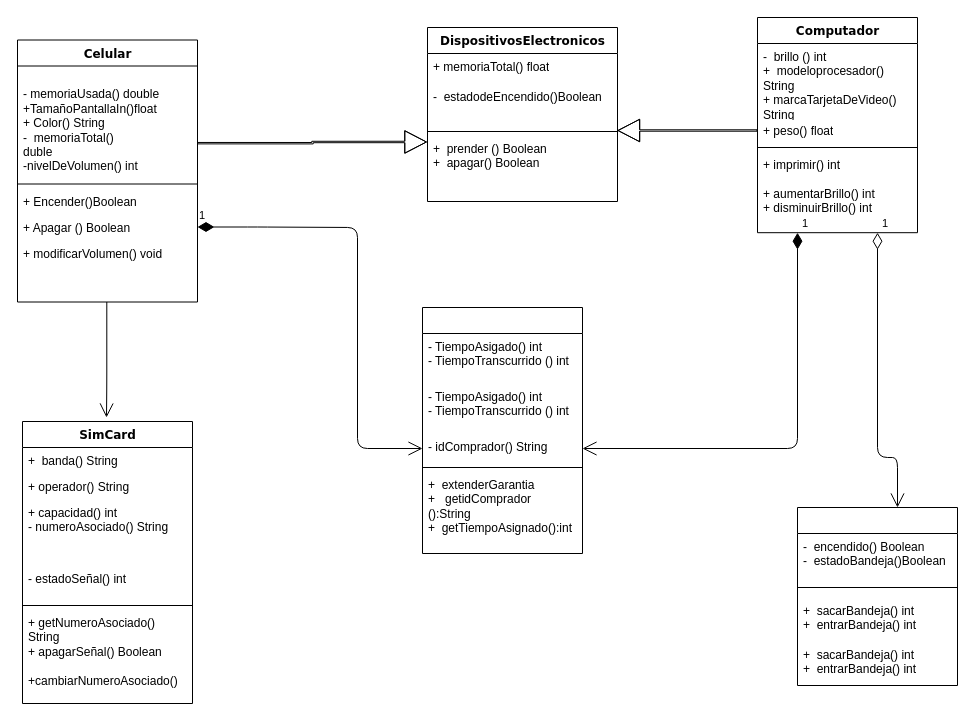
Image size: 975x722. Some labels were removed from this diagram. Each missing label, with the box of its shape:
Garantía: (422, 306, 582, 554)
UnidadDvd: (796, 506, 958, 686)
